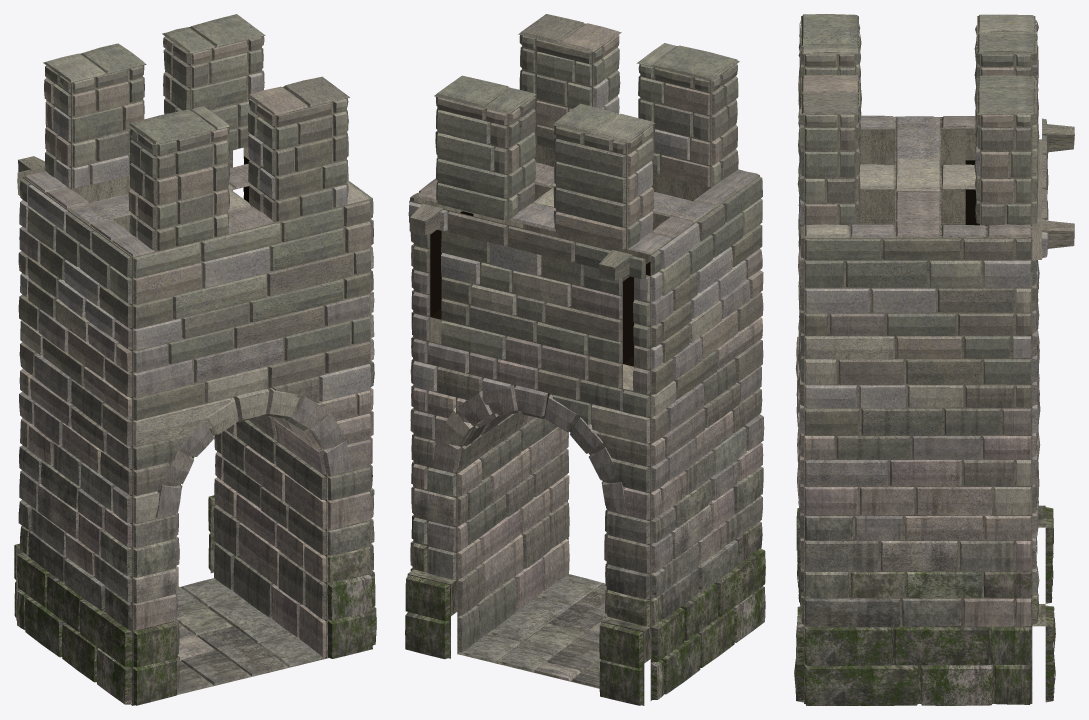
The model's file is fort_gatehouse.glb.
3 views of the same model, side by side, from view 1: azimuth 30°, elevation 25°; view 2: azimuth 150°, elevation 25°; view 3: azimuth 270°, elevation 25° (orthographic). The views are drawn at different scales.
Visible parts, largest first — view 1: Gatehouse; view 2: Gatehouse; view 3: Gatehouse.
Part boxes in pixels (left/top/right/bottom): Gatehouse: left=14, top=14, right=376, bottom=705; Gatehouse: left=405, top=14, right=765, bottom=705; Gatehouse: left=794, top=14, right=1074, bottom=705.
Bounding box in the file's own units: 3.21 × 6.74 × 2.95.
3 materials, 3 textured.
